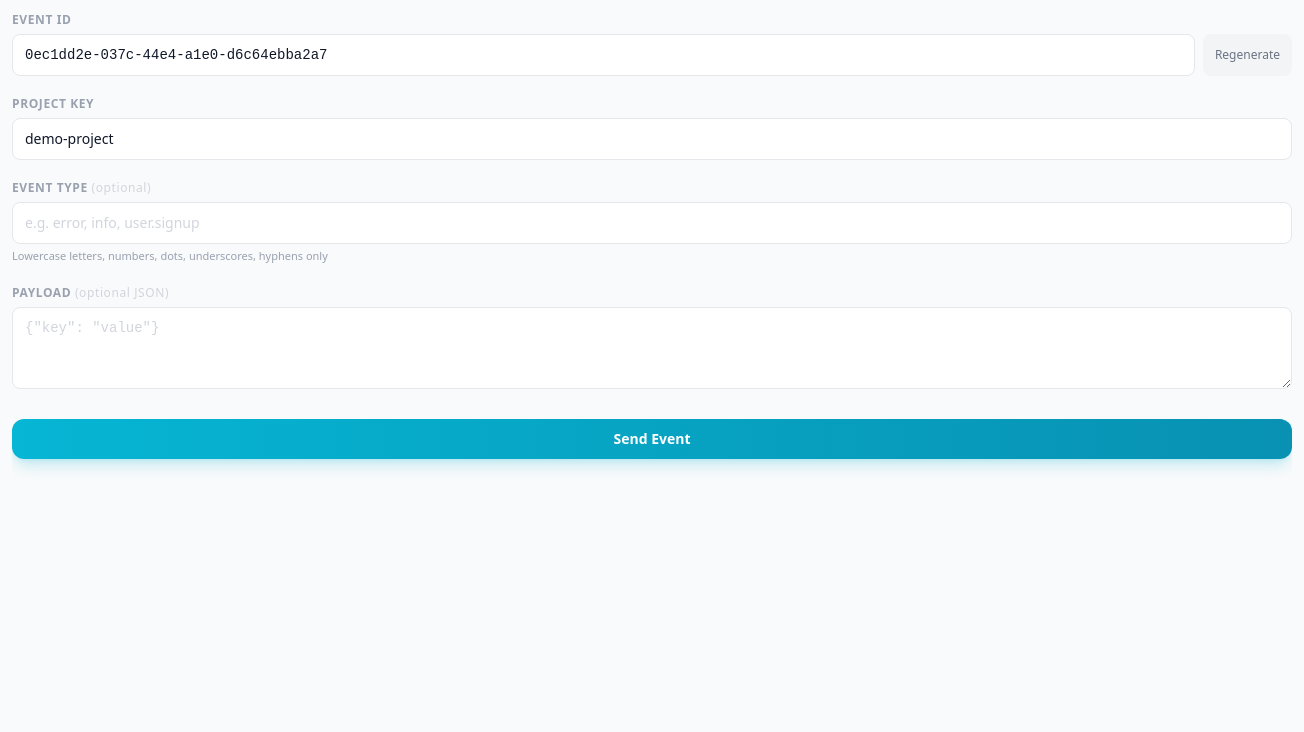
EventForm › submits event successfully
The width and height of the screenshot is (1304, 732).
Step 1. Click the button "Send Event" → (652, 438), box [12,418,1292,458]
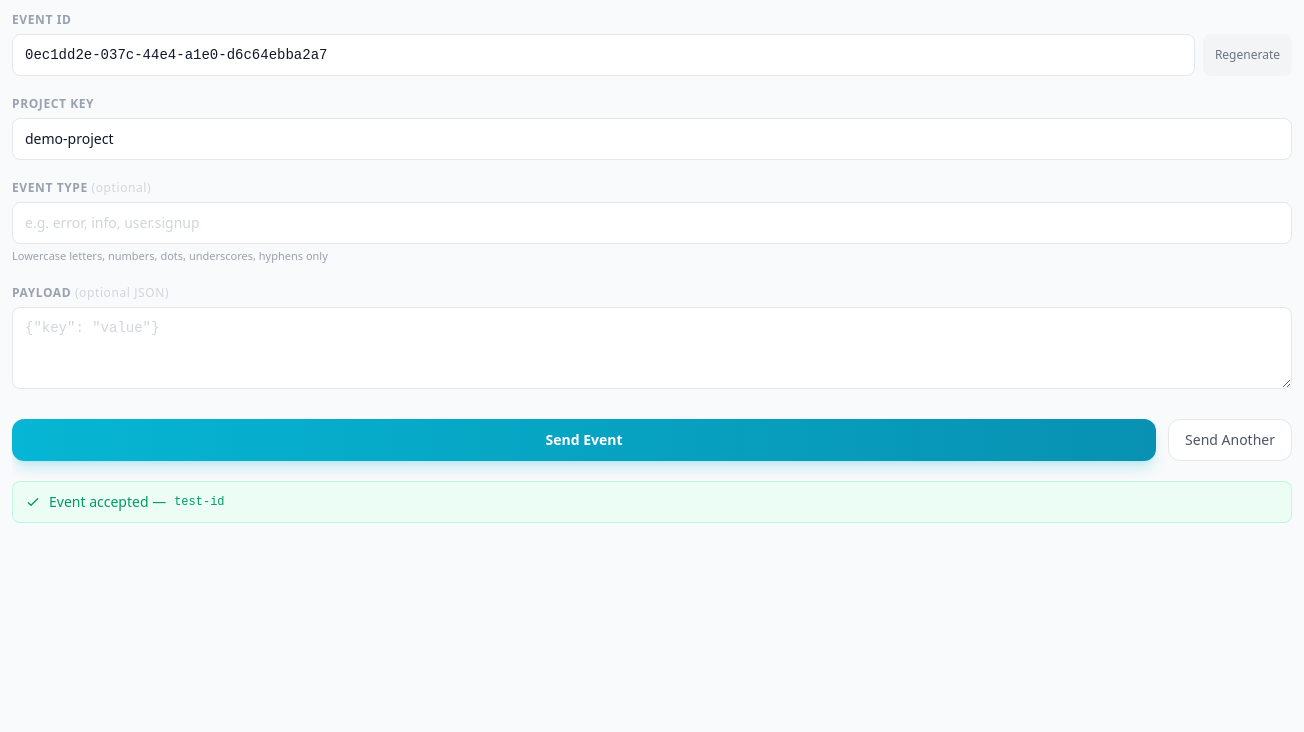
Expected: the text "Event accepted — test-id" is shown, [12,480,1292,522]
